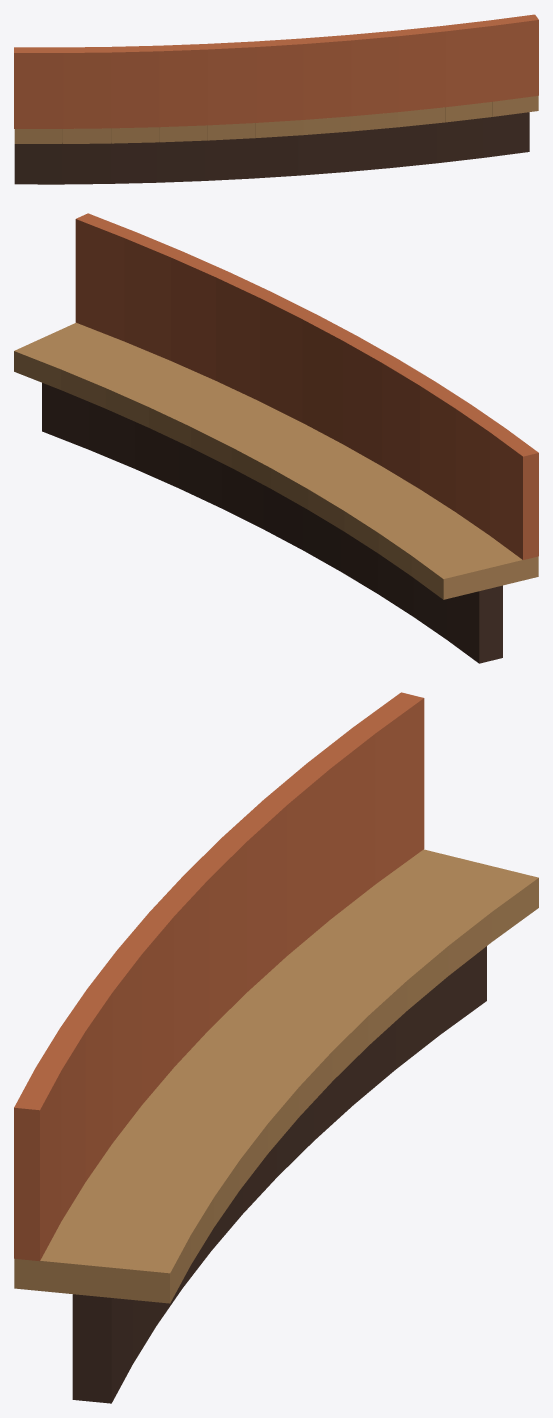
3 views of the same model, one above another, from view 1: azimuth 30°, elevation 25°; view 2: azimuth 150°, elevation 25°; view 3: azimuth 270°, elevation 25° (orthographic). The views are drawn at different scales.
Visible parts, largest first — view 1: banco_oeste; view 2: banco_oeste; view 3: banco_oeste.
Part boxes in pixels (x1,y1,x2,y2): banco_oeste: (14,14,538,184); banco_oeste: (14,213,538,663); banco_oeste: (14,692,538,1403).
Size of the model in its own units: 3.05 by 1.58 by 0.95.
